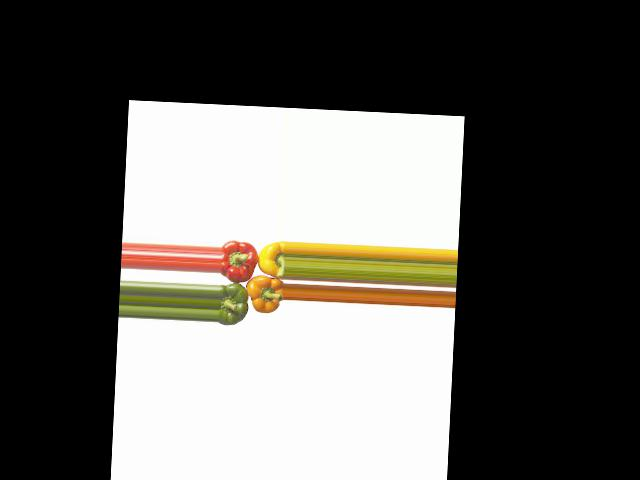bell_pepper: (255, 239, 286, 281)
